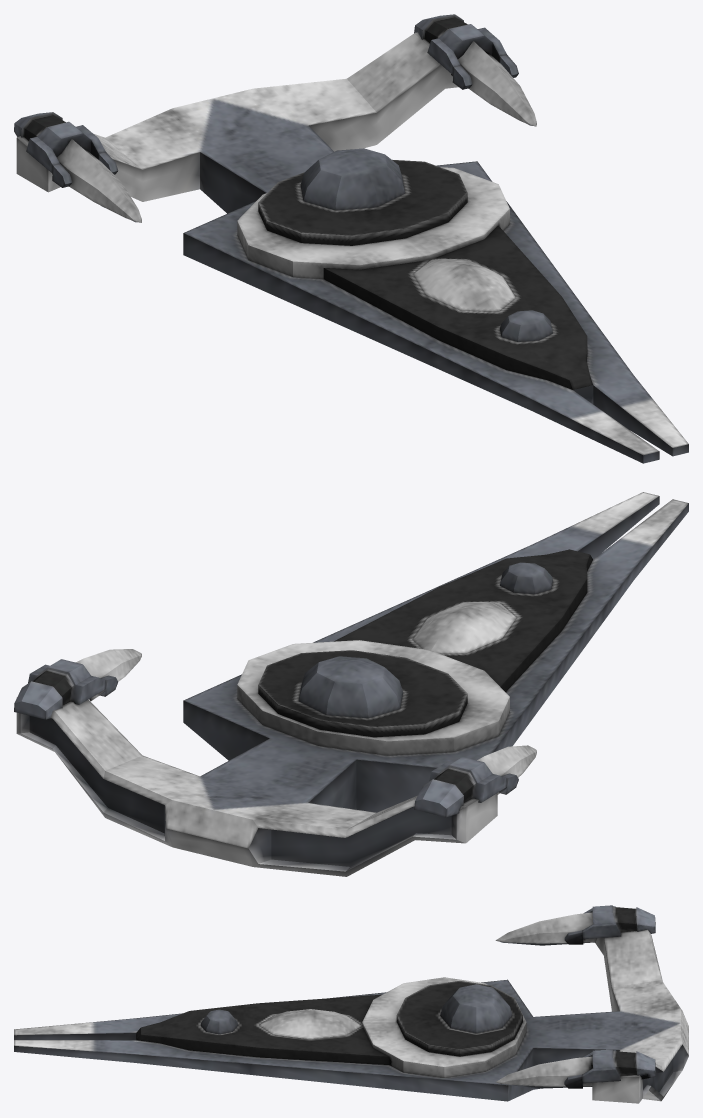
File: Consorzio_4.fbx
3 views of the same model, one above another, from view 1: azimuth 30°, elevation 25°; view 2: azimuth 150°, elevation 25°; view 3: azimuth 270°, elevation 25° (orthographic). The views are drawn at different scales.
Parts seen in each view (by area): view 1: Texture, Colore1; view 2: Texture, Colore1; view 3: Texture, Colore1.
Boxes of the visible parts, x1,y1,x2,y2 form: Texture: (14,14,688,463); Colore1: (16,32,688,455); Texture: (14,496,688,871); Colore1: (16,492,688,876); Texture: (14,905,688,1101); Colore1: (14,912,688,1103).
Bounding box in the file's own units: 5.78 × 1.67 × 10.1.
Materials: 2 (2 with a texture image).
